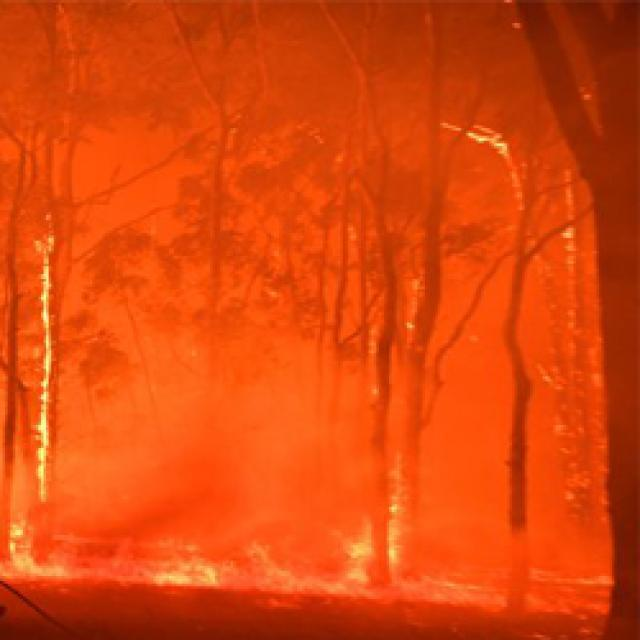Fire: (0, 186, 95, 604), (0, 489, 364, 597), (320, 421, 454, 618), (427, 102, 594, 248)
Smoke: (102, 0, 454, 471), (0, 0, 640, 111), (402, 363, 640, 640)
